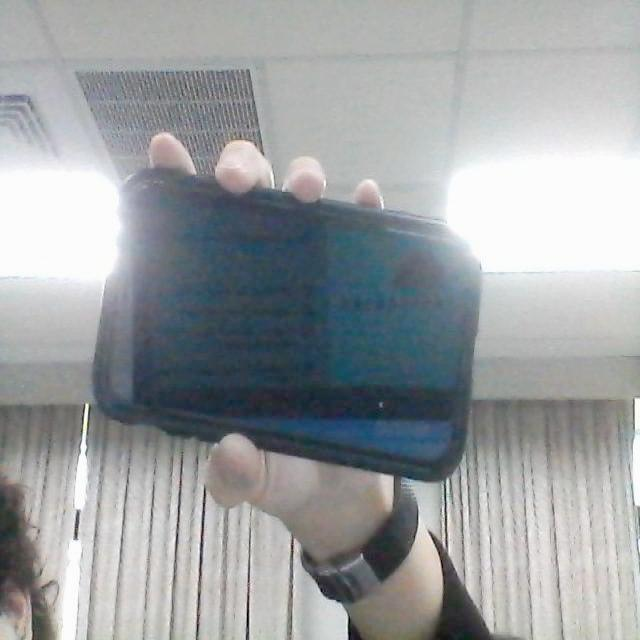phone: (85, 117, 504, 523)
